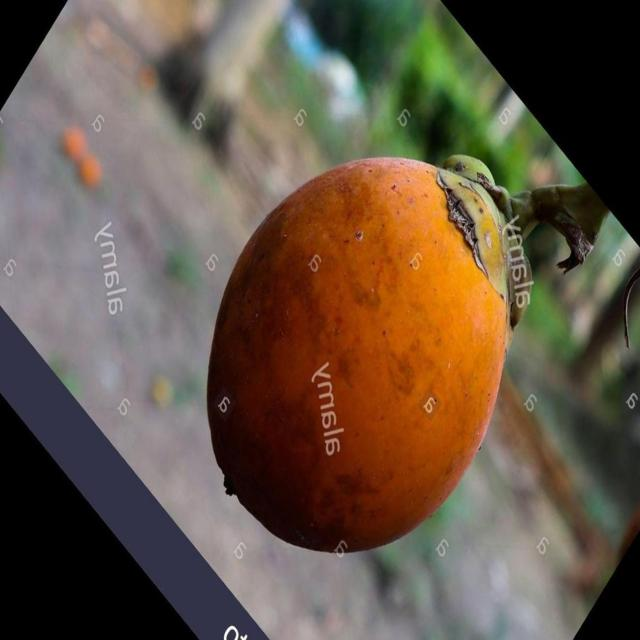good: (206, 157, 530, 557)
